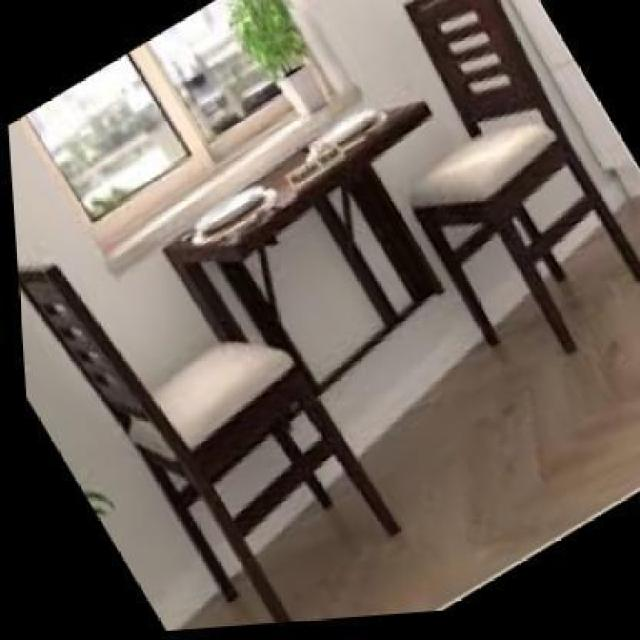tables: (160, 96, 445, 536)
